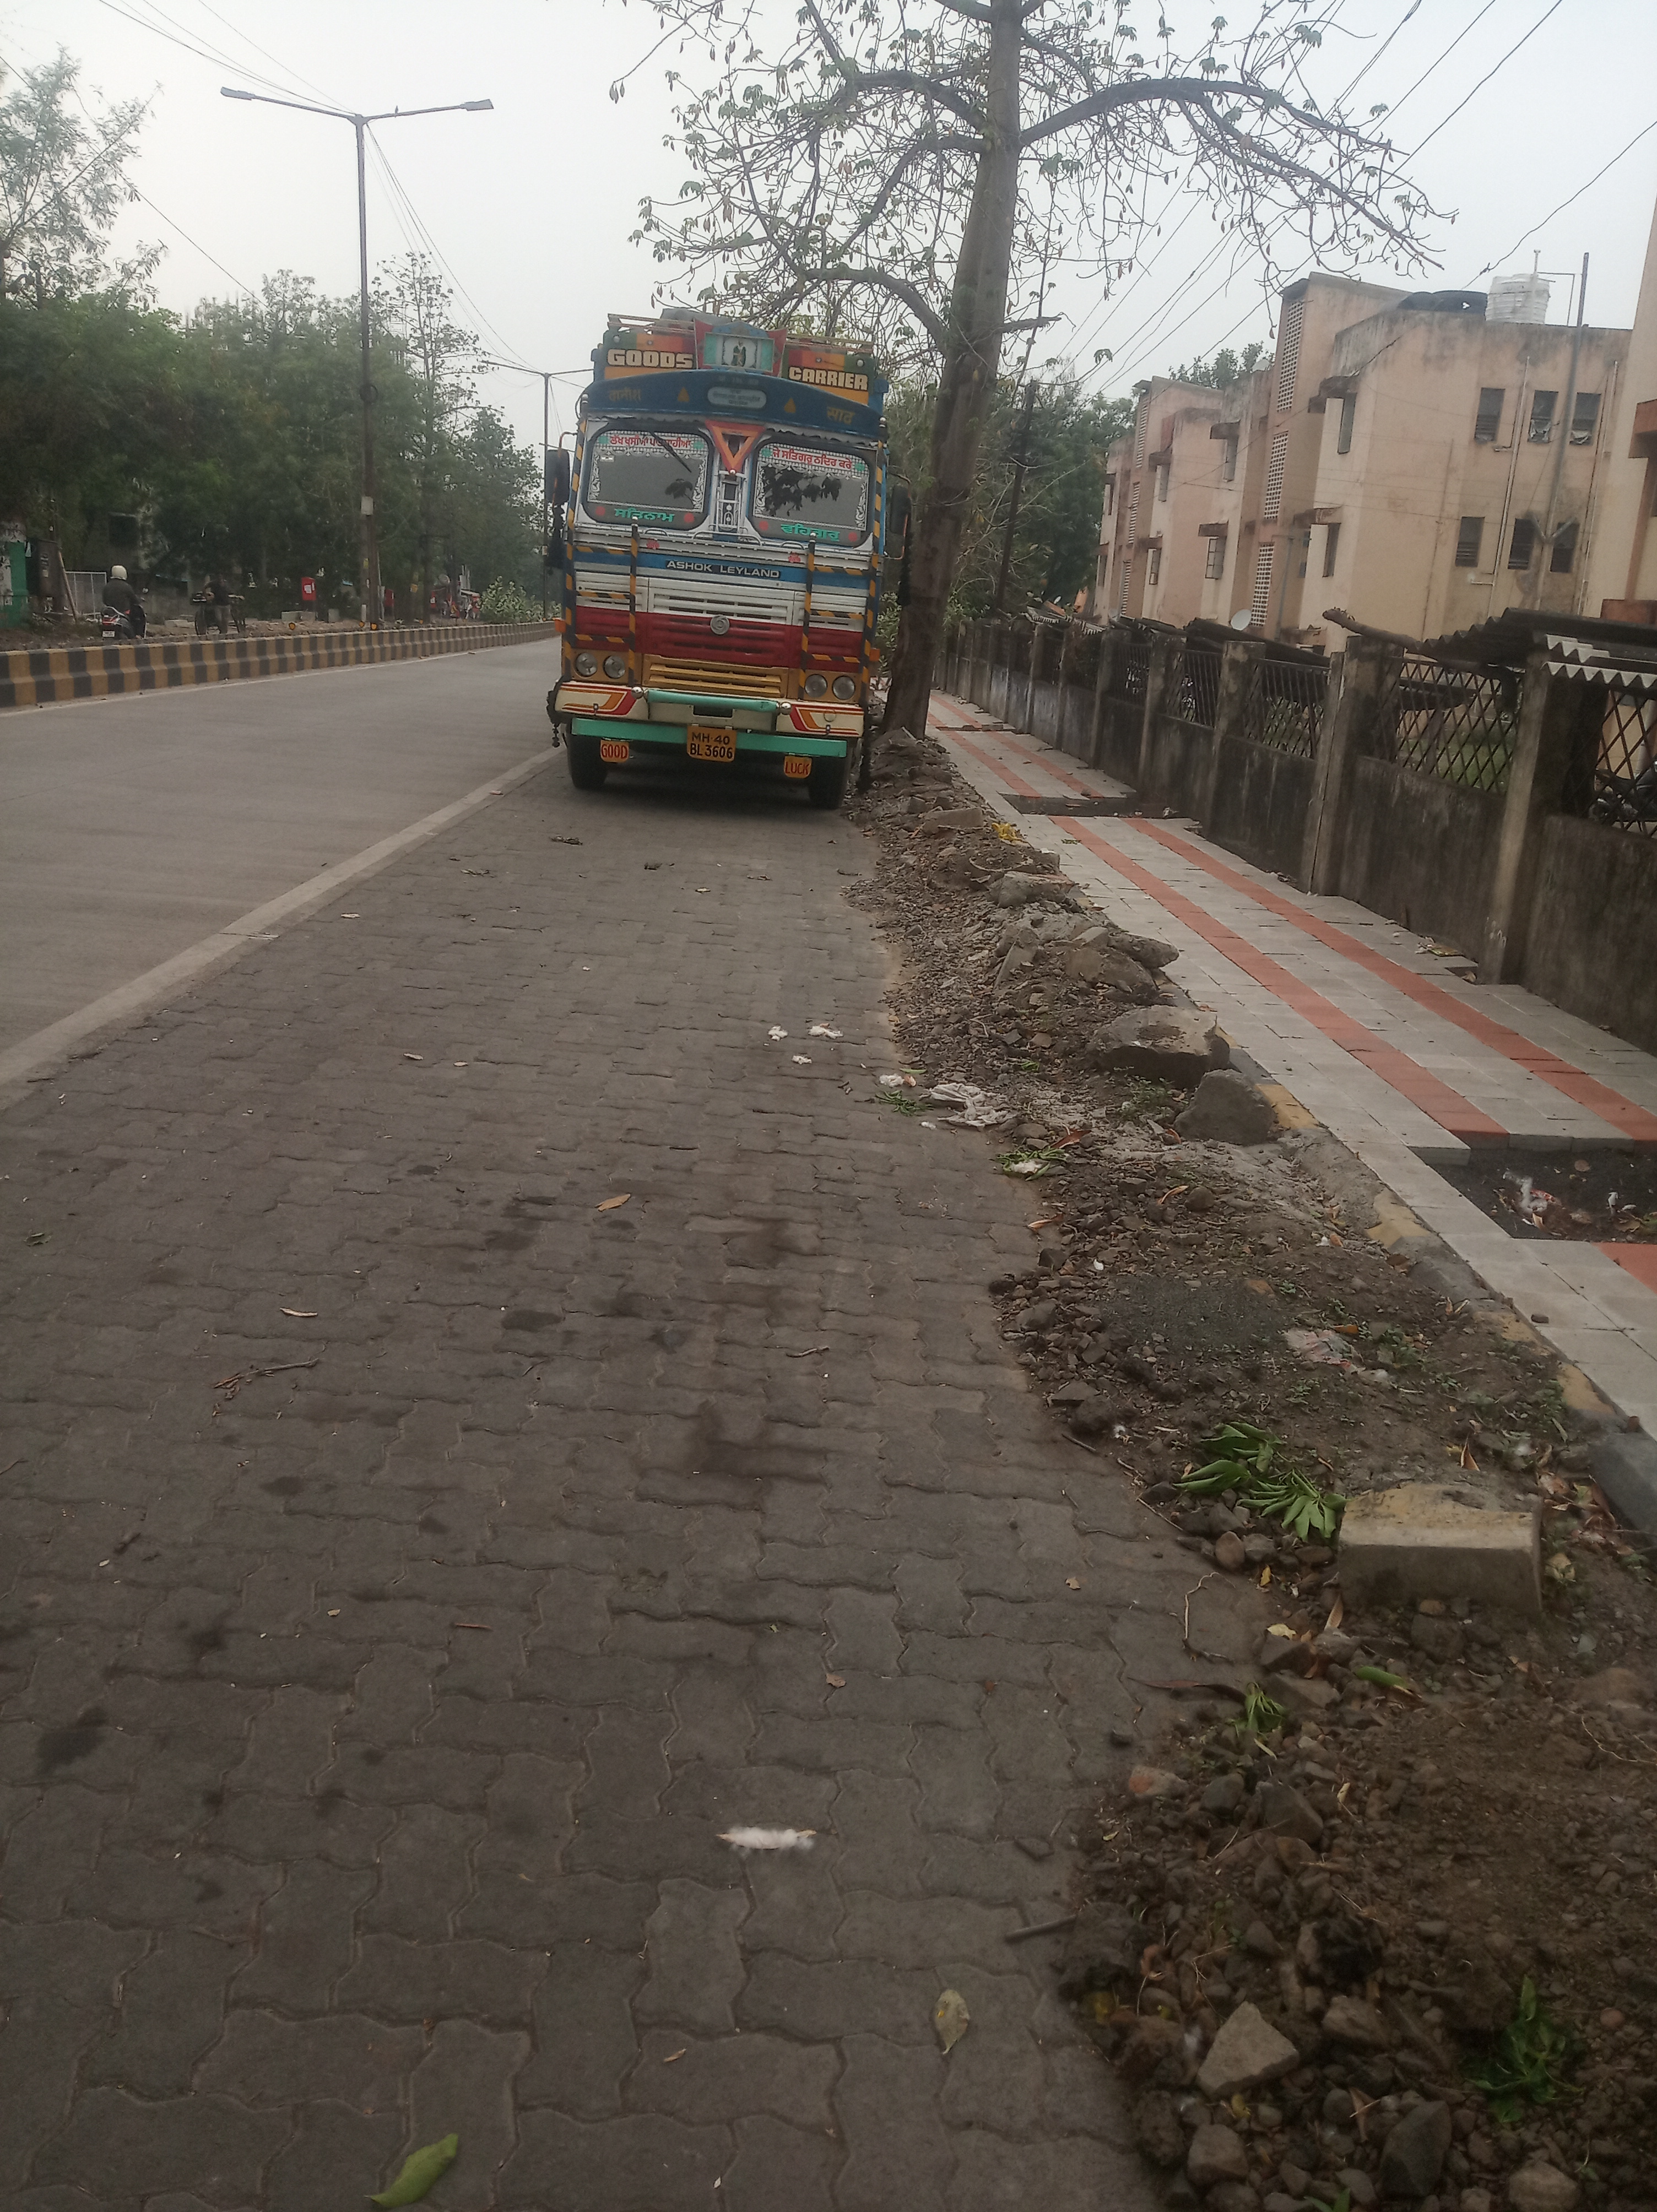truck: (540, 301, 921, 811)
